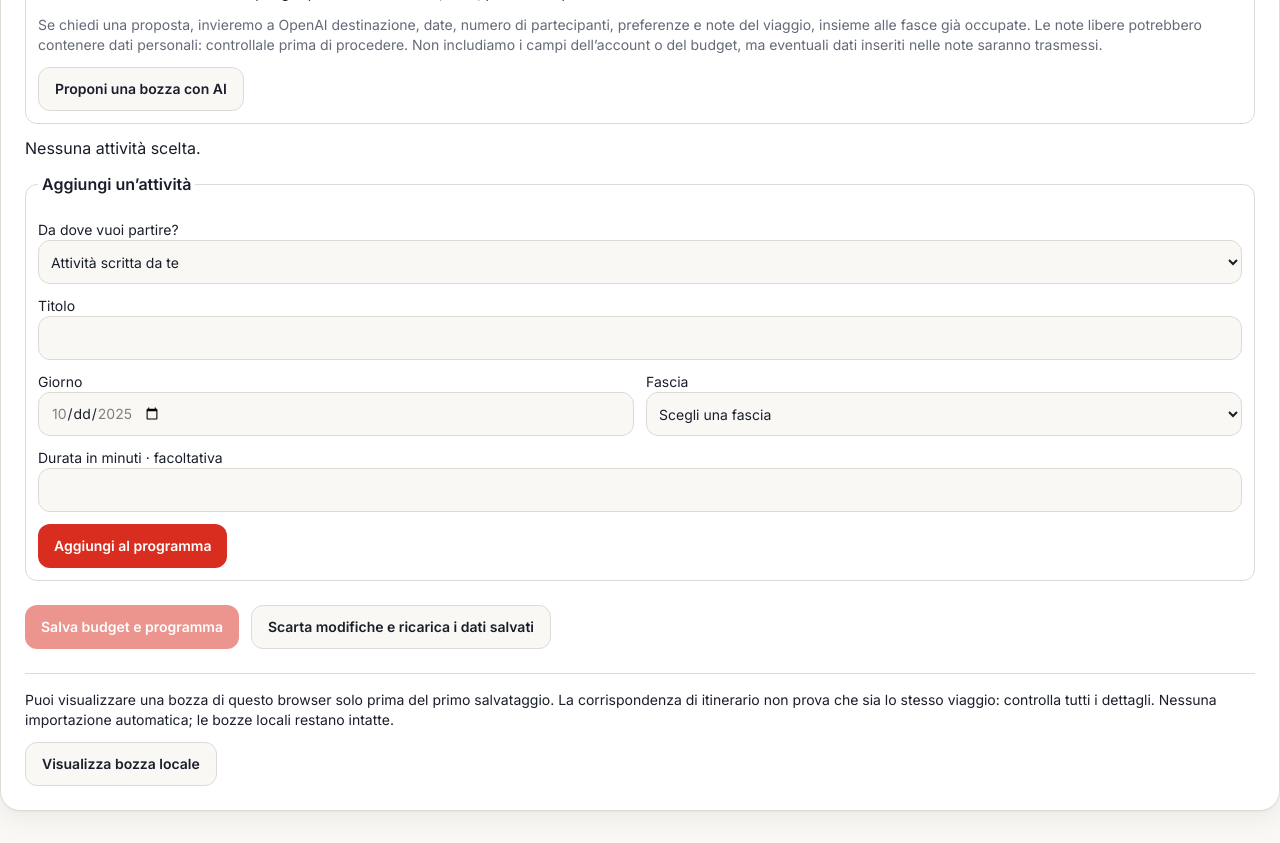
Test: Trip Hub budget/program › previews compatible local data, requires explicit use and save, and retains the original bytes
(page scrolled)
Click the button "Visualizza bozza locale": (121, 764) [25, 742, 217, 786]
(page scrolled)
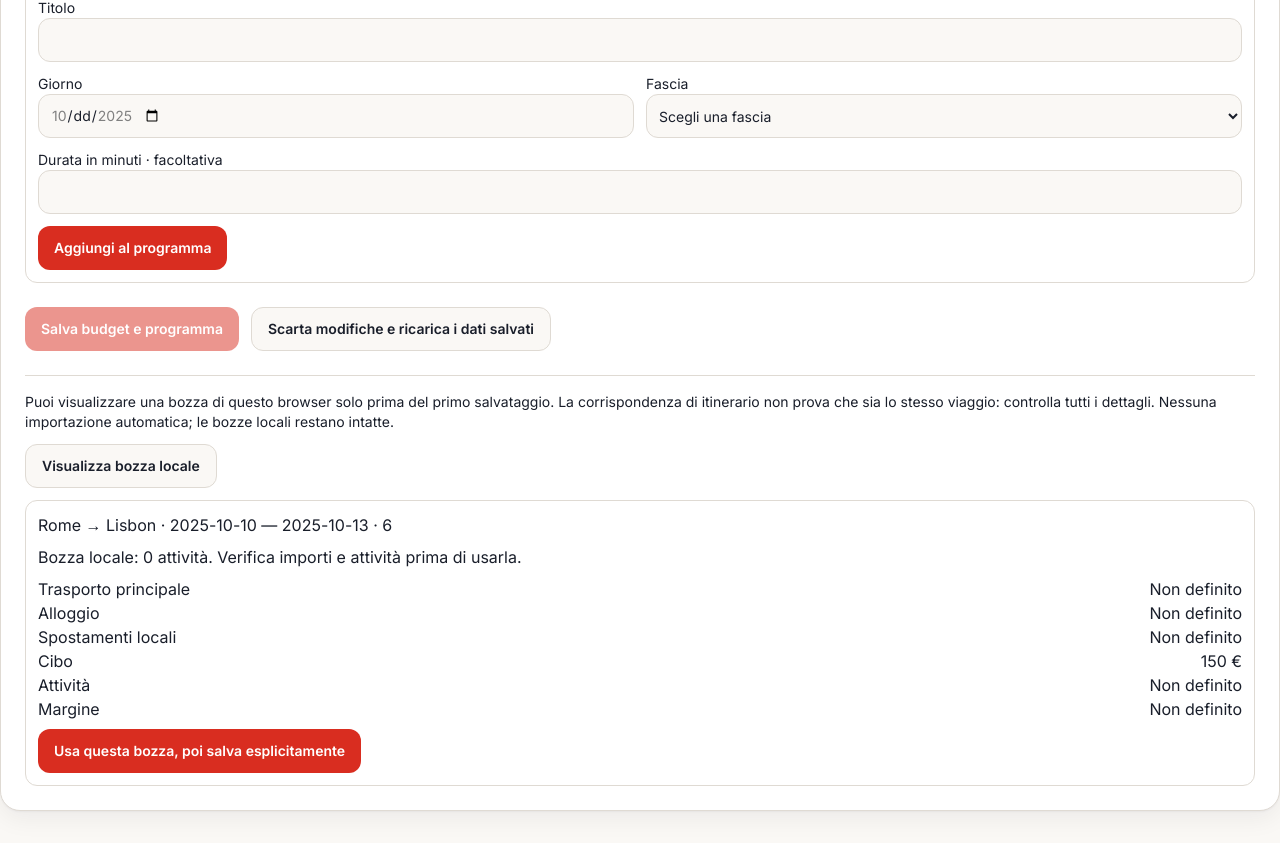
Check: the button "Usa questa bozza, poi salva esplicitamente" is shown
Click the button "Usa questa bozza, poi salva esplicitamente": (200, 751) [38, 729, 361, 773]
(page scrolled)
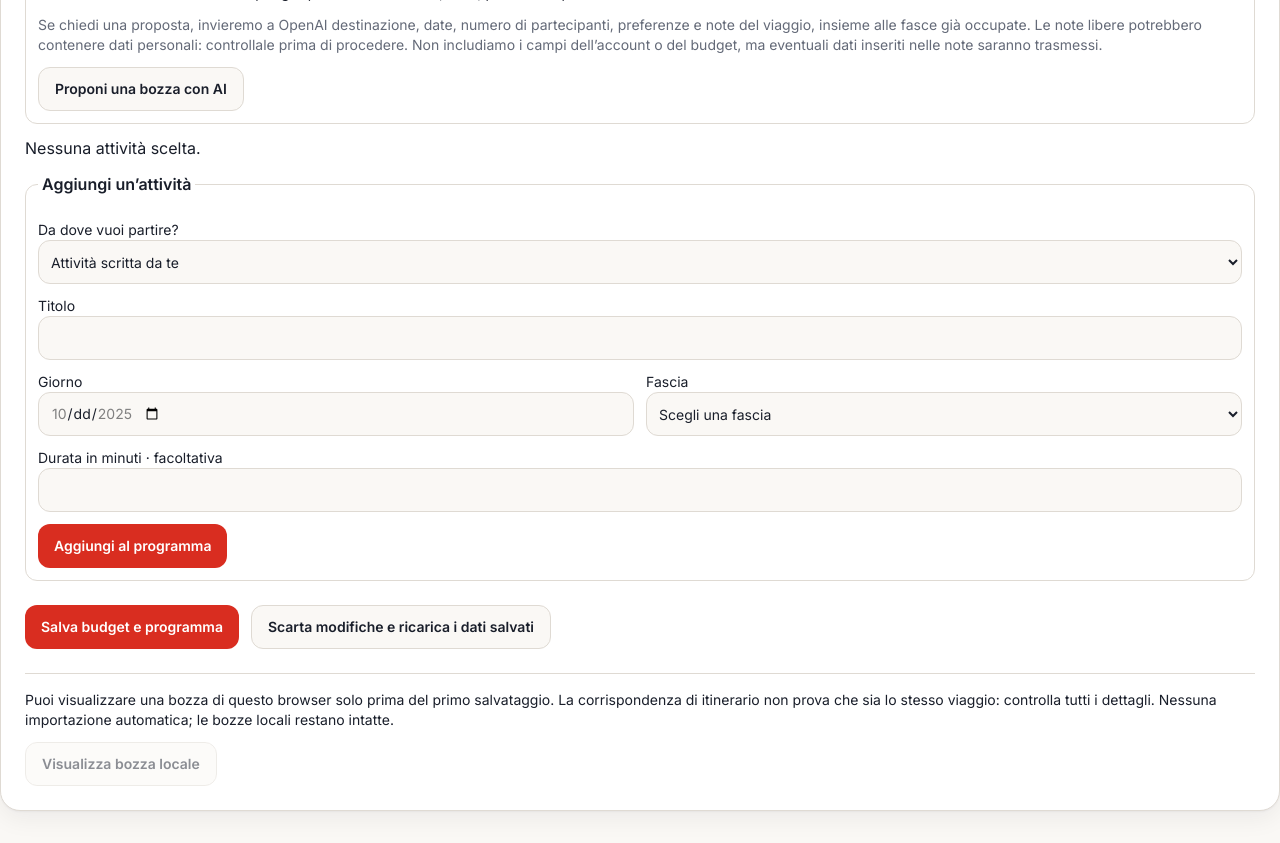
Click the button "Salva budget e programma": (132, 627) [25, 605, 239, 649]
(page scrolled)
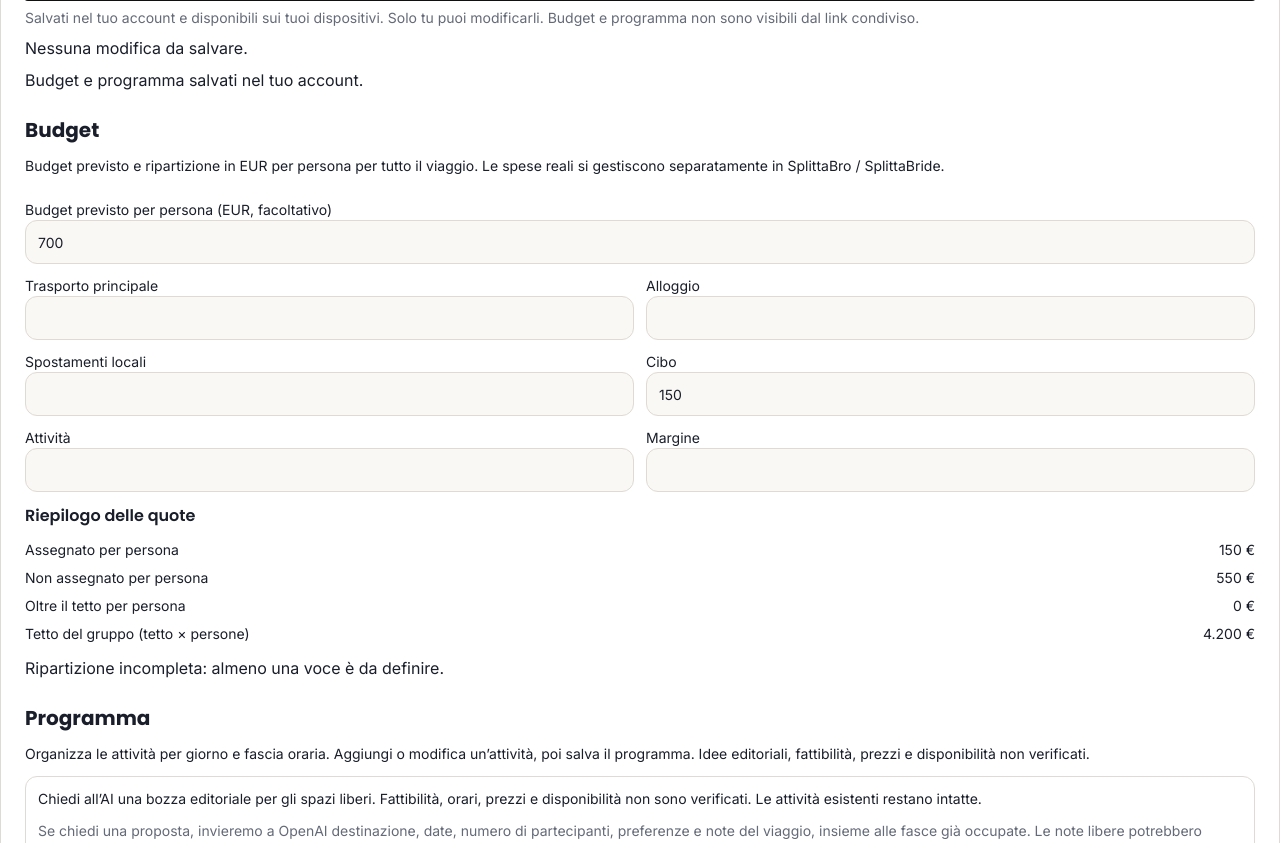
Check: the text "Budget e programma salvati nel tuo account." is shown, box [25, 70, 363, 90]
Check: the button "Visualizza bozza locale" is gone
